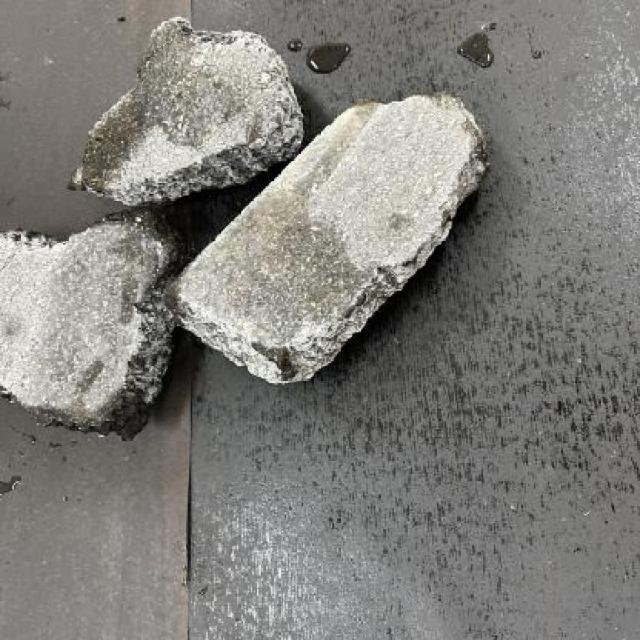Road Debris: (65, 19, 238, 186), (188, 195, 378, 336), (26, 213, 159, 404), (289, 104, 380, 198)
